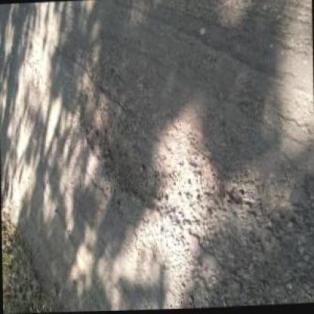Hueco: (80, 88, 164, 216)
